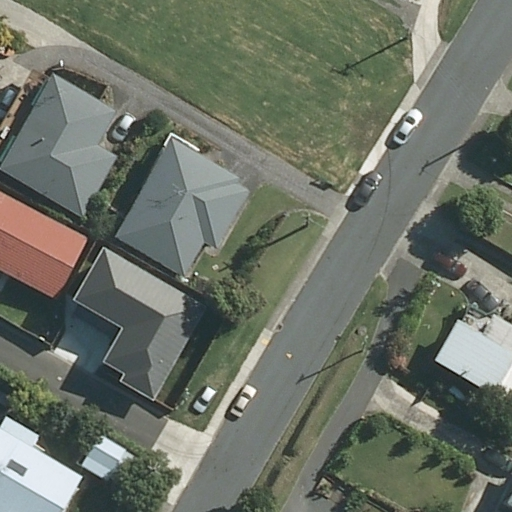DT: (396, 17, 424, 45), (478, 114, 504, 140)
